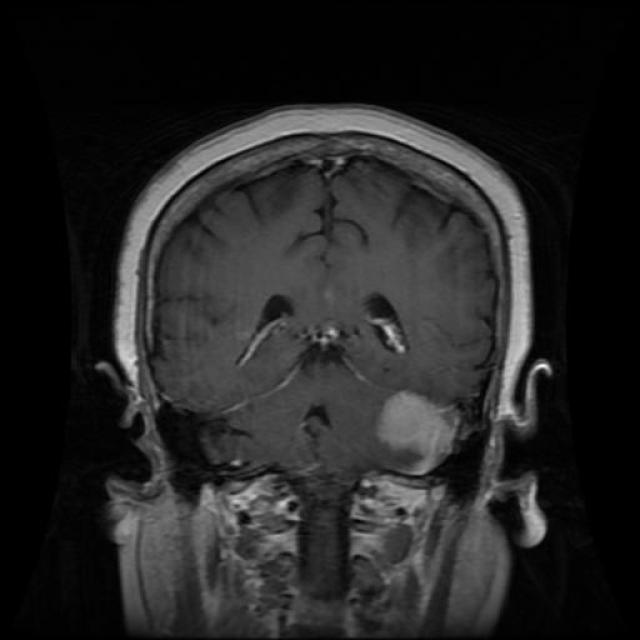meningioma: (379, 391, 459, 476)
